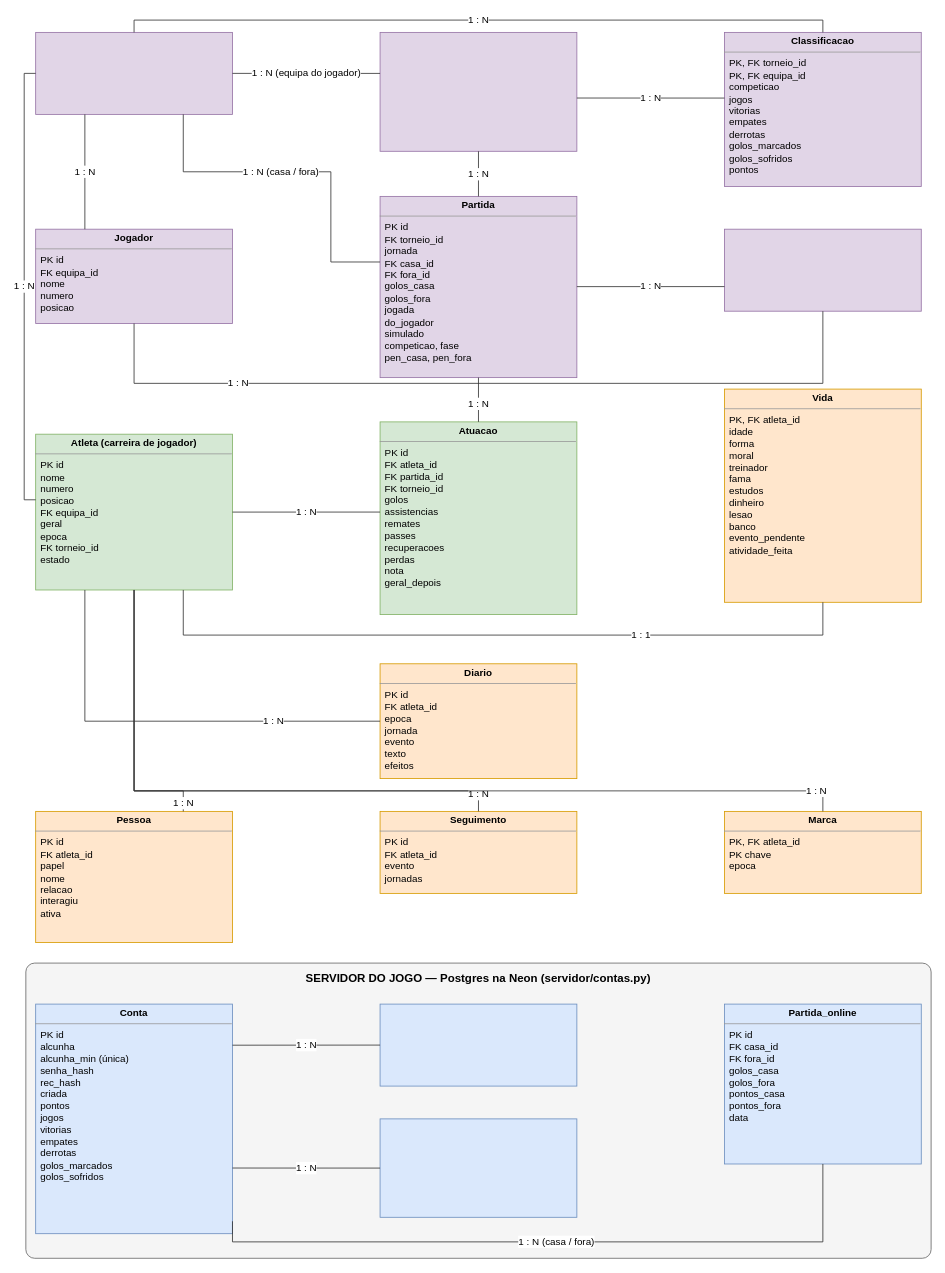
Some shapes in this 945 by 1273 pixel diagram are drawn without their labels. The shapes that lost their labels are listed below. From the top down, each one's centre as x and y in pixels, then its label:
At (x=133, y=73): "Equipa PK id nome sigla forca".
At (x=478, y=91): "Torneio PK id nome FK equipa_jogador dificuldade epoca data_inicio estado".
At (x=822, y=269): "Estatistica PK id FK partida_id FK jogador_id golos".
At (x=478, y=1044): "Sessao PK token_hash FK conta_id criada".
At (x=478, y=1167): "Progresso (nuvem) PK, FK conta_id PK tipo dados versao".
